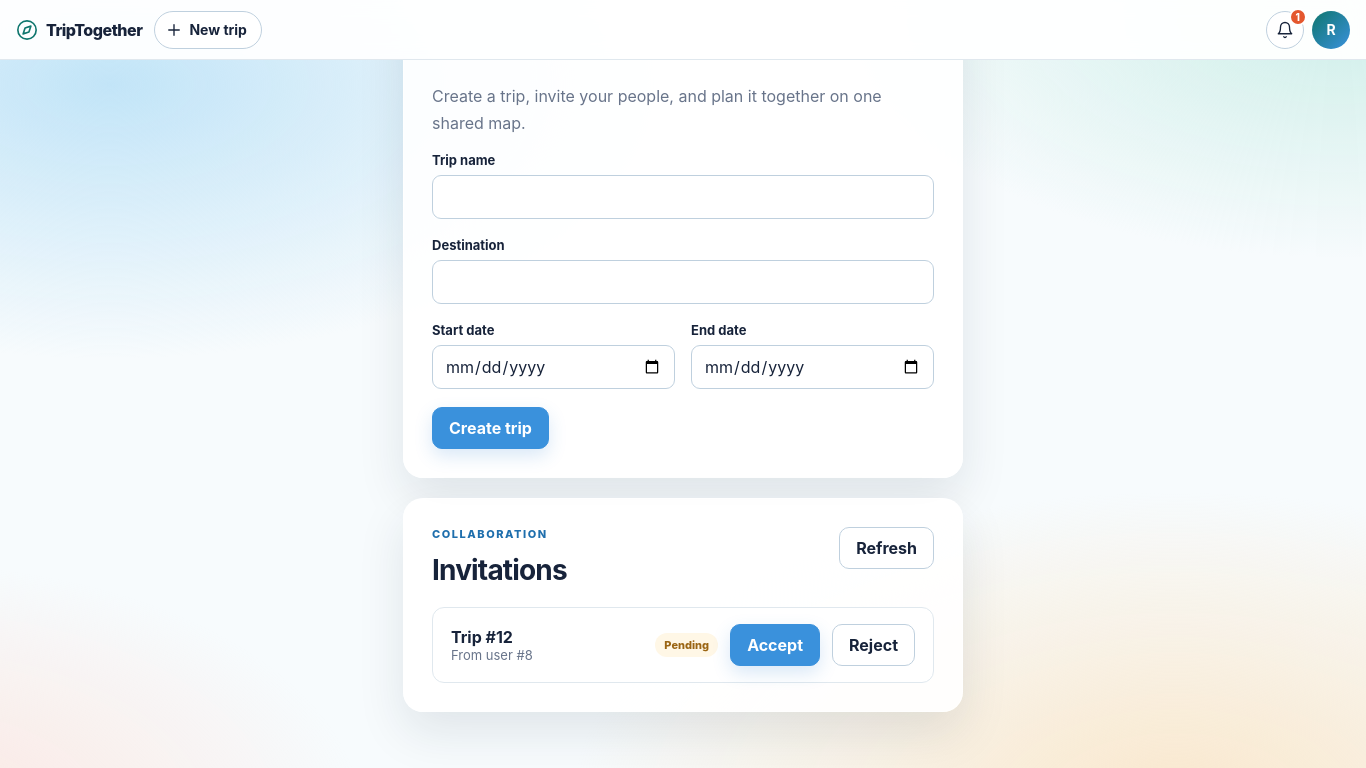
Test: collaboration and itinerary UI › accepts a pending invitation from the dashboard inbox
This screenshot has width=1366, height=768.
(page scrolled)
Expected: the text "Trip #12" is shown, top-left (451, 627), bottom-right (513, 647)
Click the button "Accept" at (775, 645), box top-left (730, 624), bottom-right (820, 666)
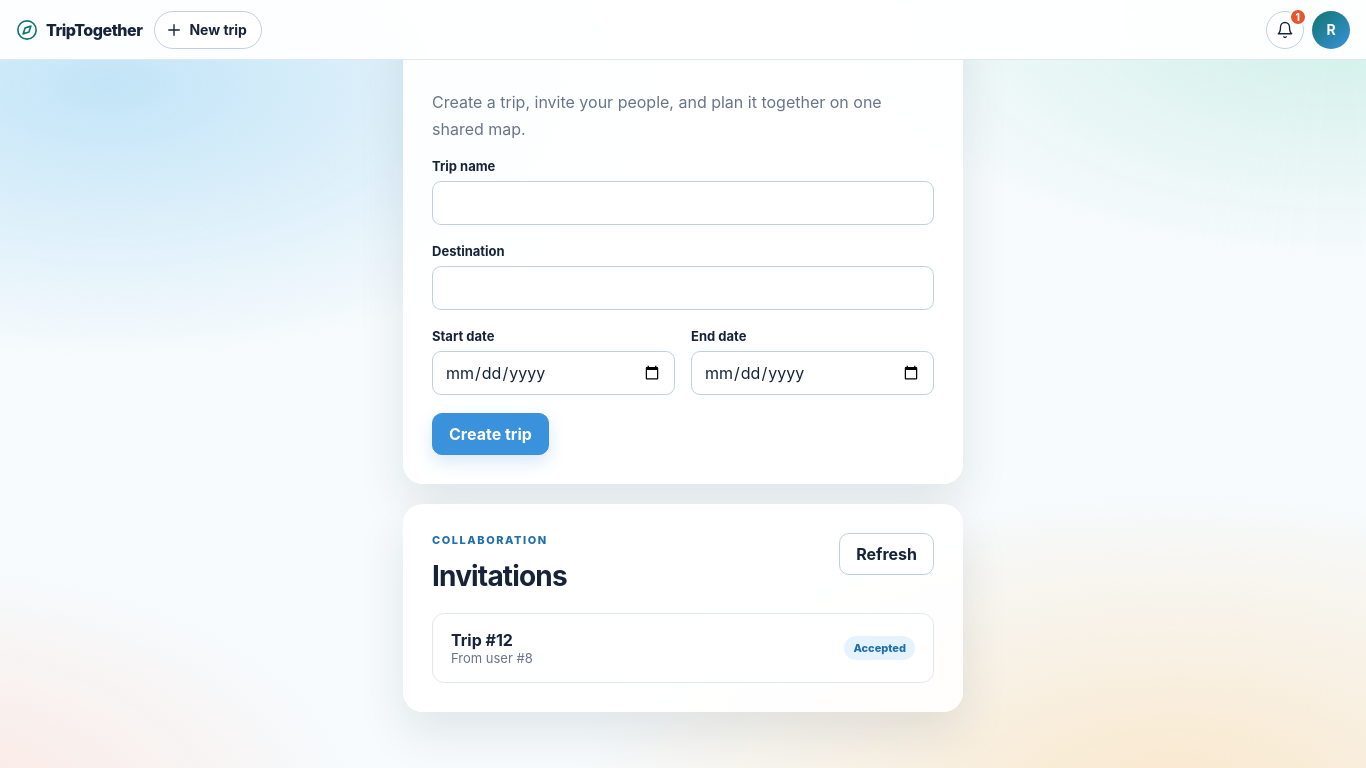
Now the text "accepted" is shown, box top-left (844, 636), bottom-right (915, 660)
